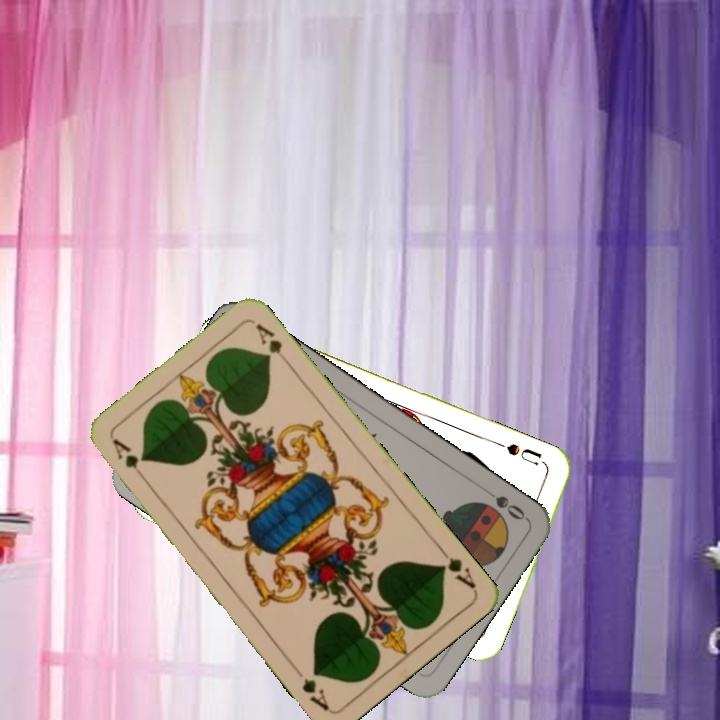GA: (434, 542, 479, 592), (108, 434, 150, 485)
SO: (477, 482, 529, 523)
SU: (493, 438, 549, 469)
